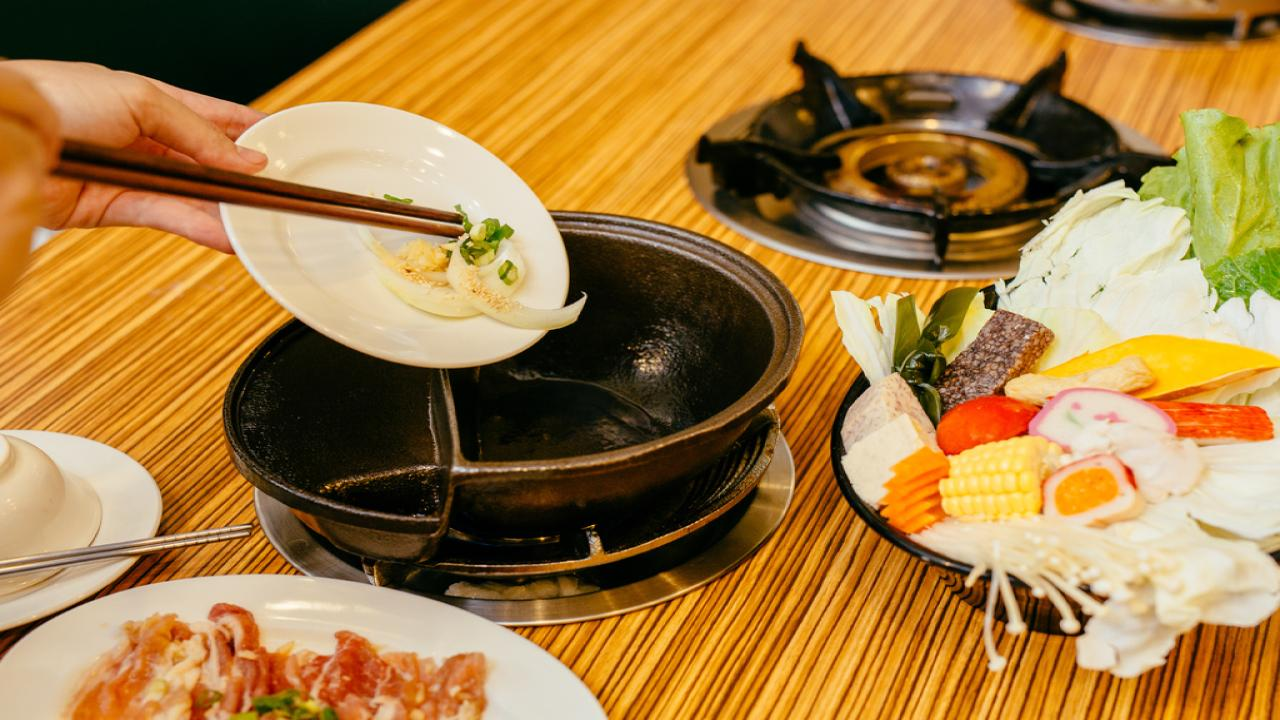chopstick: (42, 136, 466, 242), (0, 523, 256, 577)
